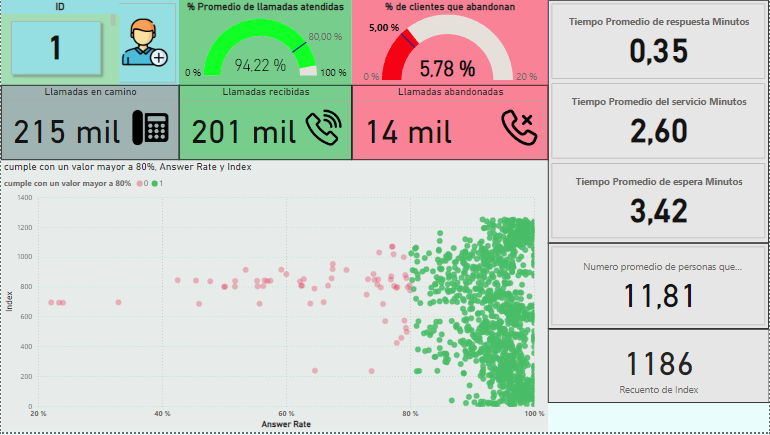

What the dashboard file says about the page in this screenshot:
{"tool":"powerbi","page":{"name":"Página 3","canvas":[1280,720],"ordinal":1},"visuals":[{"type":"cardVisual","fields":{"Data":["Count(Call Center Data.Index)"]},"box":[0,0,296.7,143.3],"z":0},{"type":"gauge","fields":{"Y":["Call Center Data.% Promedio de llamadas atendidas"]},"box":[296.7,0,288.3,143.3],"z":1000},{"type":"gauge","fields":{"Y":["Call Center Data.% de clientes que abandonan"]},"box":[585,0,326.7,143.3],"z":2000},{"type":"scatterChart","fields":{"Y":["Call Center Data.Index"],"X":["Call Center Data.Answer Rate"],"Series":["Call Center Data.cumple con un valor mayor a 80%"]},"box":[0,266.7,911.7,453.3],"z":3000},{"type":"cardVisual","fields":{"Data":["Call Center Data.promedio de personas que abandonan"]},"box":[911.7,405,368.3,143.3],"z":4000},{"type":"cardVisual","fields":{"Data":["Avg(Call Center Data.Tiempo de respuesta)","Avg(Call Center Data.Tiempo de habla)","Avg(Call Center Data.Tiempo de espera)"]},"box":[911.7,0,368.3,405],"z":5000},{"type":"cardVisual","title":"Llamadas recibidas","fields":{"Data":["Sum(Call Center Data.Answered Calls)"]},"box":[296.7,141.7,288.3,125],"z":6000},{"type":"advancedSlicerVisual","title":"ID ","fields":{"Values":["Call Center Data.Index"]},"box":[0,0,196.7,141.7],"z":7000},{"type":"cardVisual","title":"Llamadas en camino","fields":{"Data":["Sum(Call Center Data.Incoming Calls)"]},"box":[0,141.7,296.7,125],"z":8000},{"type":"cardVisual","title":"Llamadas abandonadas","fields":{"Data":["Sum(Call Center Data.Abandoned Calls)"]},"box":[585,141.7,326.7,125],"z":9000},{"type":"card","fields":{"Values":["Count(Call Center Data.Index)"]},"box":[911.4,548.6,368.6,122.9],"z":9001}]}

Visuals, with their boxes in screenshot pixels (x1, y1, x2, y2), scaled from the page's 1280x720 canvas onto the 770x435 screenshot:
cardVisual - Count(Call Center Data.Index): (0,0,178,87)
gauge - Call Center Data.% Promedio de llamadas atendidas: (178,0,352,87)
gauge - Call Center Data.% de clientes que abandonan: (352,0,548,87)
scatterChart - Call Center Data.Index x Call Center Data.Answer Rate: (0,161,548,434)
cardVisual - Call Center Data.promedio de personas que abandonan: (548,245,769,331)
cardVisual - Avg(Call Center Data.Tiempo de respuesta) x Avg(Call Center Data.Tiempo de habla): (548,0,769,245)
"Llamadas recibidas" cardVisual: (178,86,352,161)
"ID " advancedSlicerVisual: (0,0,118,86)
"Llamadas en camino" cardVisual: (0,86,178,161)
"Llamadas abandonadas" cardVisual: (352,86,548,161)
card - Count(Call Center Data.Index): (548,331,769,406)
